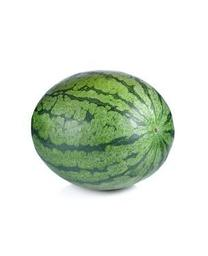watermelon: (28, 68, 176, 194)
